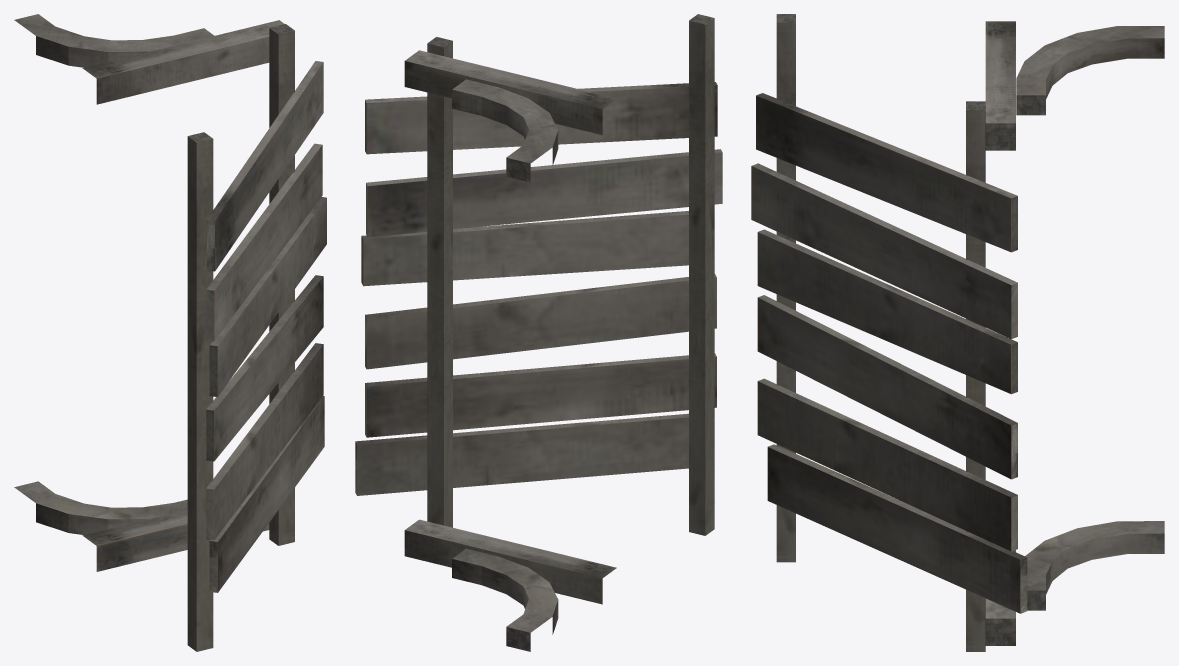
File: awning_desert_wood2.glb
The picture shows the model from 3 angles, left to right: view 1: azimuth 30°, elevation 25°; view 2: azimuth 150°, elevation 25°; view 3: azimuth 270°, elevation 25°; orthographic projection. The views are drawn at different scales.
Bounding box in the file's own units: 30.83 × 61.68 × 42.59.
Materials: 1 (1 with a texture image).
